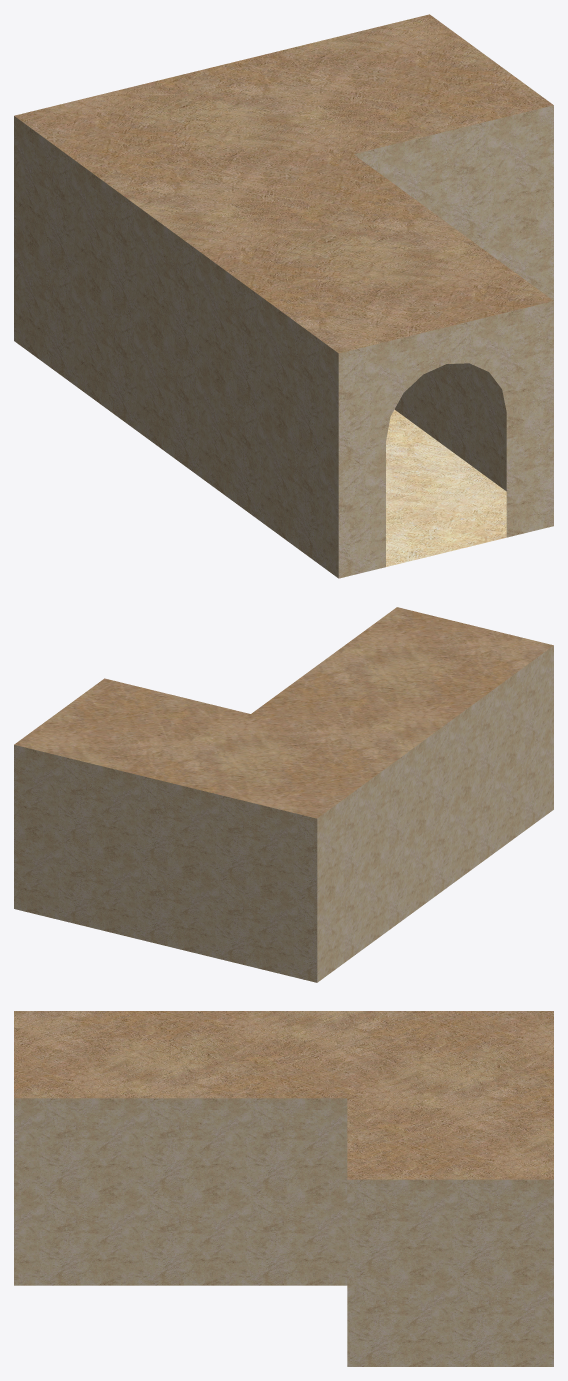
File: thm_tato_imprv_building_s09_r1_foyer_mesh_l0.fbx
The picture shows the model from 3 angles, top to bottom: view 1: azimuth 30°, elevation 25°; view 2: azimuth 150°, elevation 25°; view 3: azimuth 270°, elevation 25°; orthographic projection. The views are drawn at different scales.
Parts seen in each view (by area): view 1: mesh_node; view 2: mesh_node; view 3: mesh_node.
Boxes of the visible parts, x1,y1,x2,y2 form: mesh_node: [14, 14, 553, 578]; mesh_node: [14, 607, 553, 982]; mesh_node: [14, 1011, 553, 1366].
Size of the model in its own units: 7.73 by 4 by 10.46.
